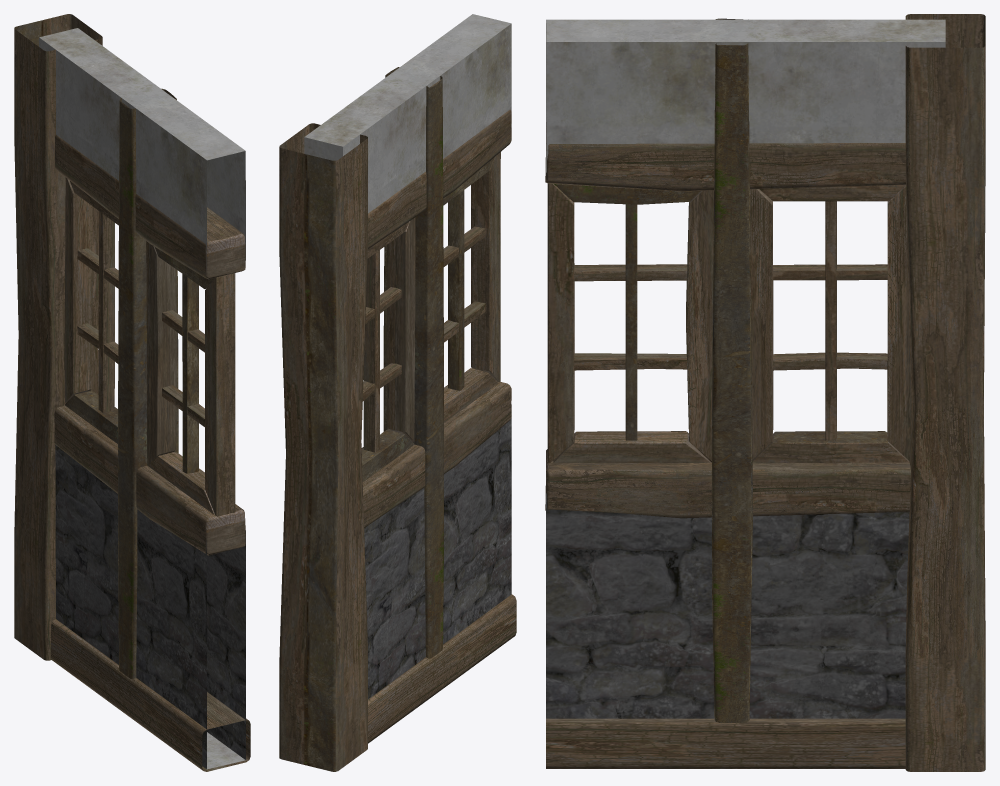
File: SM_WallMedium12.fbx
The picture shows the model from 3 angles, left to right: view 1: azimuth 30°, elevation 25°; view 2: azimuth 150°, elevation 25°; view 3: azimuth 270°, elevation 25°; orthographic projection. The views are drawn at different scales.
Visible parts, largest first — view 1: SM_WallMedium12_LOD0; view 2: SM_WallMedium12_LOD0; view 3: SM_WallMedium12_LOD0.
Boxes of the visible parts, x1,y1,x2,y2 form: SM_WallMedium12_LOD0: (14, 14, 250, 771); SM_WallMedium12_LOD0: (279, 14, 516, 771); SM_WallMedium12_LOD0: (545, 14, 985, 771).
Bounding box in the file's own units: 30 × 165 × 301.
